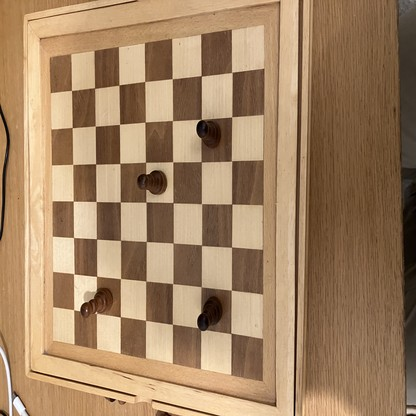pawn_black: (81, 288, 113, 317), (198, 298, 222, 331), (138, 172, 168, 195), (197, 120, 221, 147)
